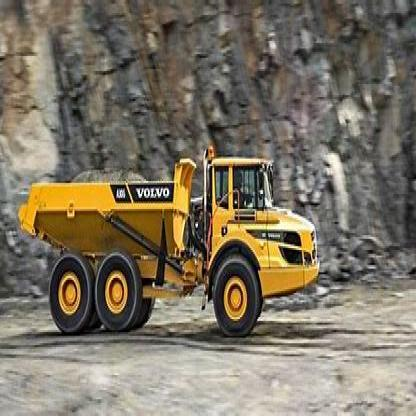dump_truck: (26, 147, 322, 336)
